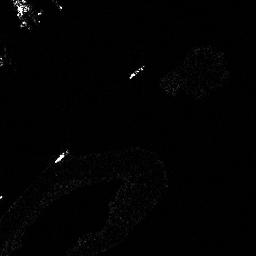ship: (130, 64, 145, 79), (53, 149, 68, 164)
